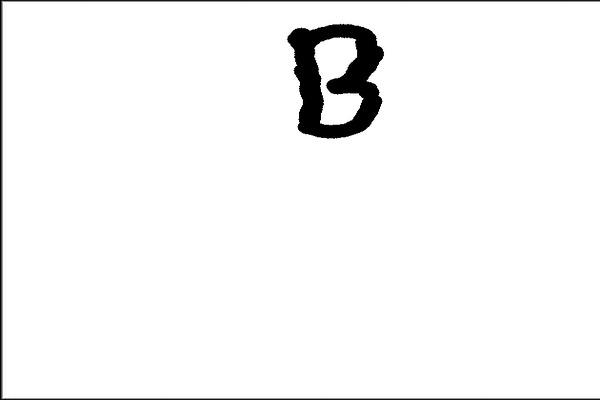B: (280, 16, 398, 147)
